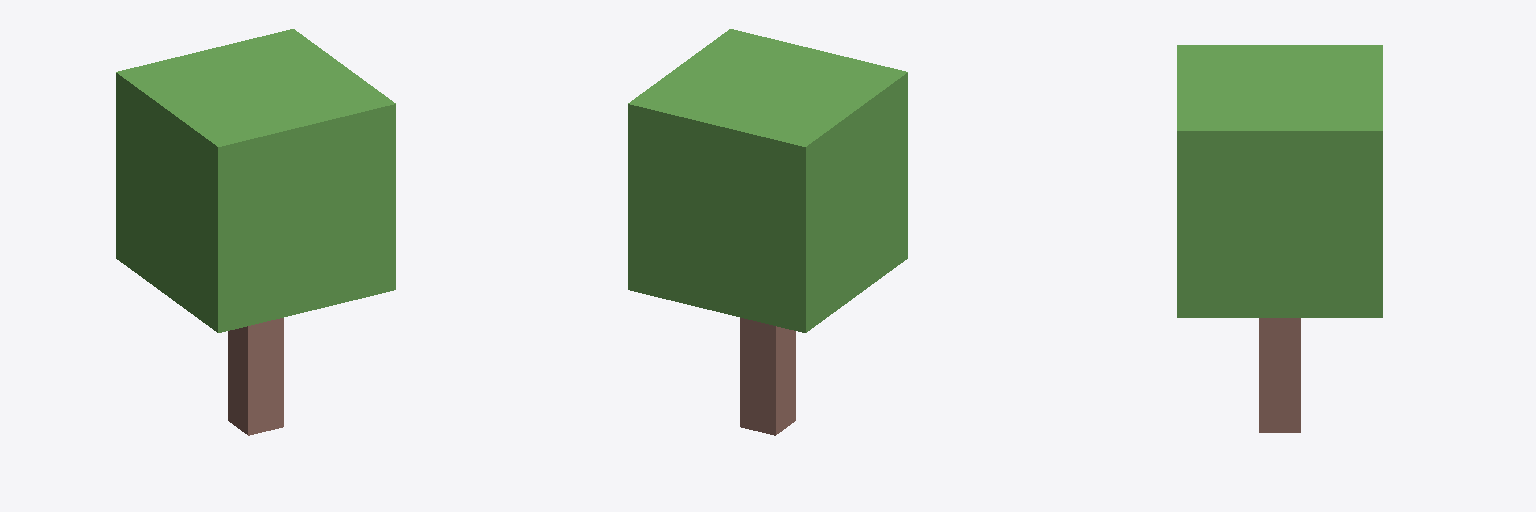
File: tree.obj
The picture shows the model from 3 angles: view 1: azimuth 30°, elevation 25°; view 2: azimuth 150°, elevation 25°; view 3: azimuth 270°, elevation 25°; orthographic projection.
Parts seen in each view (by area): view 1: Cube_Cube.001, Cube.001_Cube.002; view 2: Cube_Cube.001, Cube.001_Cube.002; view 3: Cube_Cube.001, Cube.001_Cube.002.
Boxes of the visible parts, x1,y1,x2,y2 form: Cube_Cube.001: [116, 29, 395, 332]; Cube.001_Cube.002: [228, 318, 283, 435]; Cube_Cube.001: [628, 29, 907, 332]; Cube.001_Cube.002: [740, 318, 795, 435]; Cube_Cube.001: [1177, 45, 1382, 317]; Cube.001_Cube.002: [1259, 318, 1300, 432].
Size of the model in its own units: 2 by 3.61 by 2.